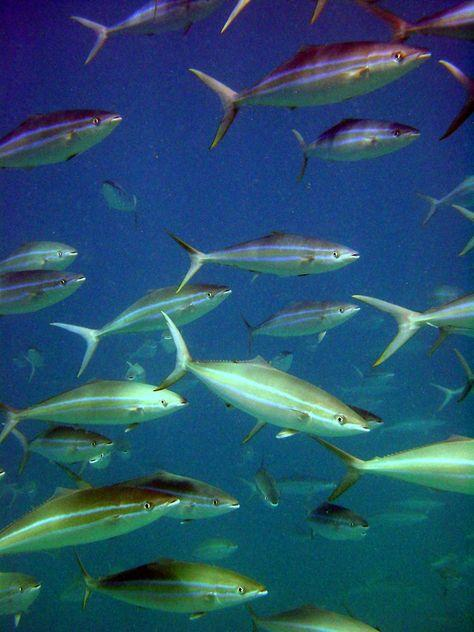fish: (186, 39, 432, 154), (158, 308, 370, 436), (47, 283, 233, 377), (0, 480, 182, 559), (164, 227, 362, 291), (0, 380, 188, 445), (79, 549, 269, 610), (314, 437, 474, 500), (57, 469, 239, 522), (76, 1, 226, 65), (350, 293, 474, 370), (287, 116, 421, 184), (0, 107, 123, 170), (3, 424, 114, 476), (242, 298, 360, 346), (354, 0, 474, 46), (246, 601, 384, 632), (0, 268, 87, 313), (410, 174, 474, 229), (239, 474, 332, 507), (440, 60, 474, 140), (0, 240, 77, 273), (309, 504, 371, 544), (0, 569, 42, 628), (374, 414, 452, 441), (175, 536, 241, 562), (98, 180, 139, 219), (12, 341, 49, 383), (253, 453, 280, 510), (127, 335, 159, 363)
